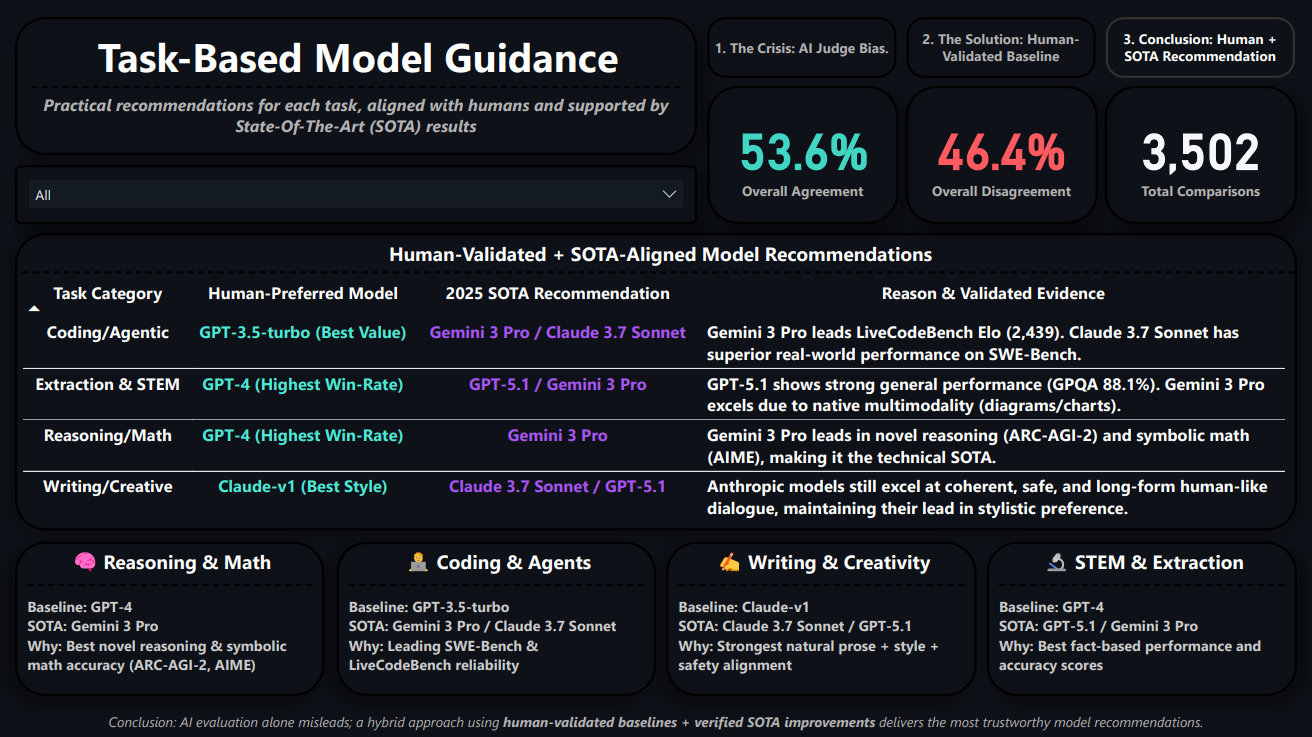

Layout of this report page (visuals, bound fields, positions):
{"tool":"powerbi","page":{"name":"3. Conclusion: Human + SOTA Recommendation","canvas":[1280,720],"ordinal":2},"visuals":[{"type":"textbox","box":[16,687.1,1247.9,33.1],"z":0},{"type":"textbox","title":"Task-Based Model Guidance","box":[16,16,663.8,133.7],"z":1000},{"type":"slicer","title":"Category","fields":{"Values":["agreement_rates_for_powerbi.category"]},"box":[16,159.5,663.8,57.7],"z":2000},{"type":"card","fields":{"Values":["Avg(agreement_rates_for_powerbi.agreement_rate)"]},"box":[689.6,83.4,186.5,133.7],"z":3000},{"type":"card","fields":{"Values":["Avg(agreement_rates_for_powerbi.disagreement_rate)"]},"box":[883.4,83.4,186.5,133.7],"z":4000},{"type":"card","fields":{"Values":["CountNonNull(human_gpt_comparison.question_id)"]},"box":[1077.3,83.4,186.5,133.7],"z":5000},{"type":"tableEx","title":"Human-Validated + SOTA-Aligned Model Recommendations","fields":{"Values":["sota_integration_verified_for_powerbi.Category","sota_integration_verified_for_powerbi.Human_Validated_Baseline","sota_integration_verified_for_powerbi.New_SOTA_Recommendation","sota_integration_verified_for_powerbi.SOTA_Justification_and_Data"]},"box":[16,225.8,1247.9,289.6],"z":6000},{"type":"textbox","title":"🔬 STEM & Extraction","box":[962.4,526.4,301.5,149.7],"z":7000,"group":"g1"},{"type":"pageNavigator","box":[689.6,16,574.2,58.9],"z":7000},{"type":"textbox","title":"✍ Writing & Creativity","box":[650.4,526.4,301.5,149.7],"z":8000,"group":"g1"},{"type":"group","id":"g1","title":"Group 1","box":[16,526.4,1247.9,149.7],"z":8000},{"type":"textbox","title":"🧑💻 Coding & Agents","box":[329.3,526.4,310.7,149.7],"z":9000,"group":"g1"},{"type":"textbox","title":"🧠 Reasoning & Math","box":[16,526.4,301.5,149.7],"z":10000,"group":"g1"}]}

Visuals, with their boxes in screenshot pixels (x1, y1, x2, y2), scaled from the page's 1280x720 canvas onto the 1312x737 screenshot:
textbox: bbox=[16, 703, 1295, 736]
"Task-Based Model Guidance" textbox: bbox=[16, 16, 697, 153]
"Category" slicer: bbox=[16, 163, 697, 222]
card - Avg(agreement_rates_for_powerbi.agreement_rate): bbox=[707, 85, 898, 222]
card - Avg(agreement_rates_for_powerbi.disagreement_rate): bbox=[905, 85, 1097, 222]
card - CountNonNull(human_gpt_comparison.question_id): bbox=[1104, 85, 1295, 222]
"Human-Validated + SOTA-Aligned Model Recommendations" tableEx: bbox=[16, 231, 1295, 528]
"🔬 STEM & Extraction" textbox: bbox=[986, 539, 1295, 692]
pageNavigator: bbox=[707, 16, 1295, 77]
"✍ Writing & Creativity" textbox: bbox=[667, 539, 976, 692]
"Group 1" group: bbox=[16, 539, 1295, 692]
"🧑💻 Coding & Agents" textbox: bbox=[338, 539, 656, 692]
"🧠 Reasoning & Math" textbox: bbox=[16, 539, 325, 692]
